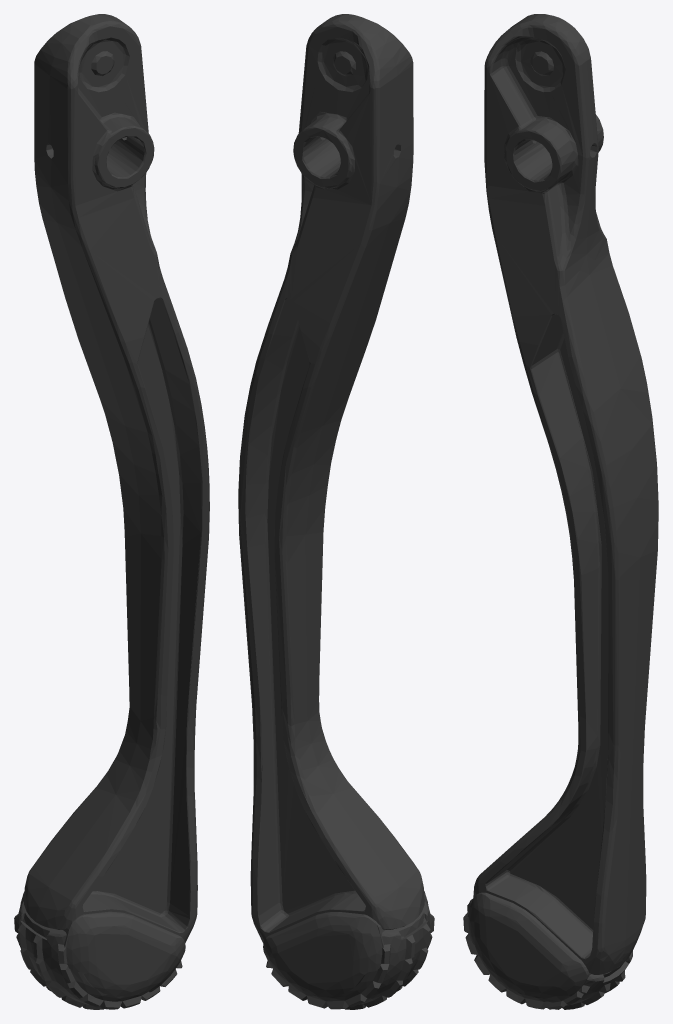
Rendered from rear_right_lower_leg.dae.
3 renders of one model, left to right at view 1: azimuth 30°, elevation 25°; view 2: azimuth 150°, elevation 25°; view 3: azimuth 330°, elevation 25°, orthographic.
Parts seen in each view (by area): view 1: rear_right_lower_leg; view 2: rear_right_lower_leg; view 3: rear_right_lower_leg.
Boxes of the visible parts, x1,y1,x2,y2 form: rear_right_lower_leg: (14,14,209,1009); rear_right_lower_leg: (238,14,434,1009); rear_right_lower_leg: (463,14,658,1009).
Bounding box in the file's own units: 0.0745 × 0.046 × 0.4249.
